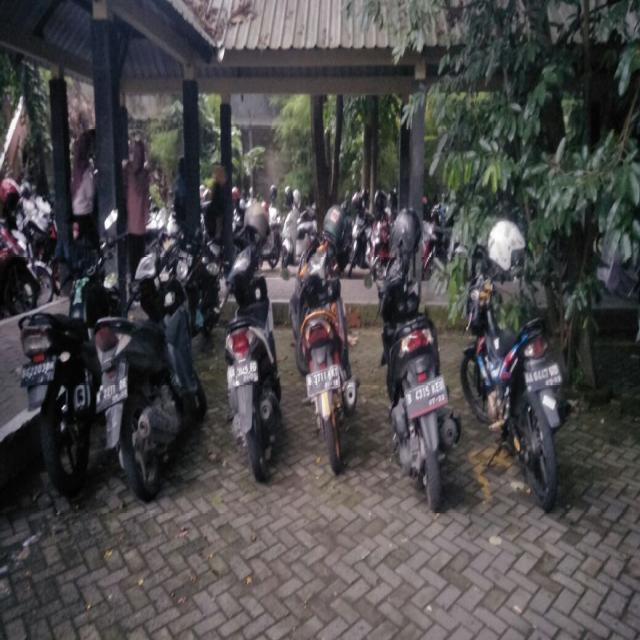plate: (404, 373, 448, 419), (524, 362, 562, 390), (95, 372, 126, 404), (306, 364, 340, 393), (226, 359, 258, 388), (20, 356, 54, 381)
